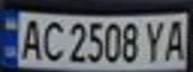0: (103, 19, 124, 64)
2: (63, 18, 87, 64)
5: (84, 19, 106, 64)
8: (121, 19, 142, 64)
A: (160, 16, 193, 62), (15, 16, 45, 62)
C: (36, 17, 66, 63)
Y: (139, 17, 169, 63)
